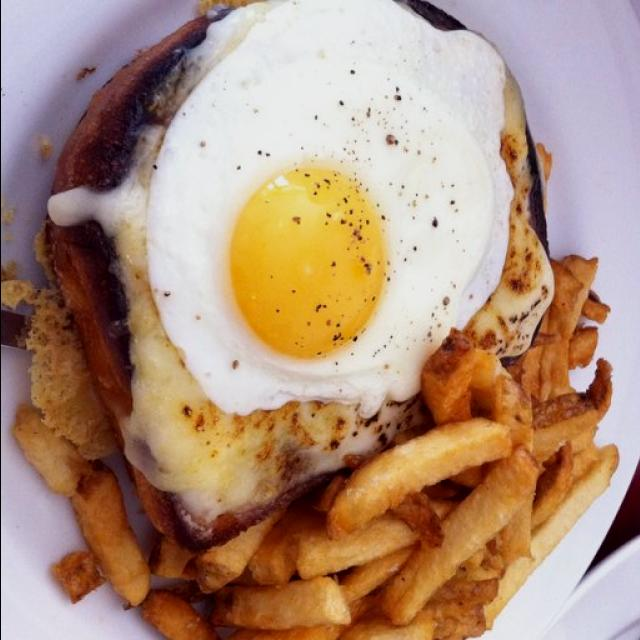telur ceplok: (120, 0, 510, 415)
